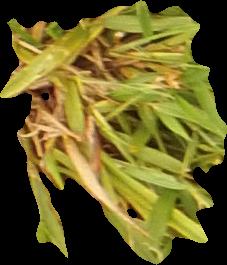grass: (1, 1, 226, 264)
